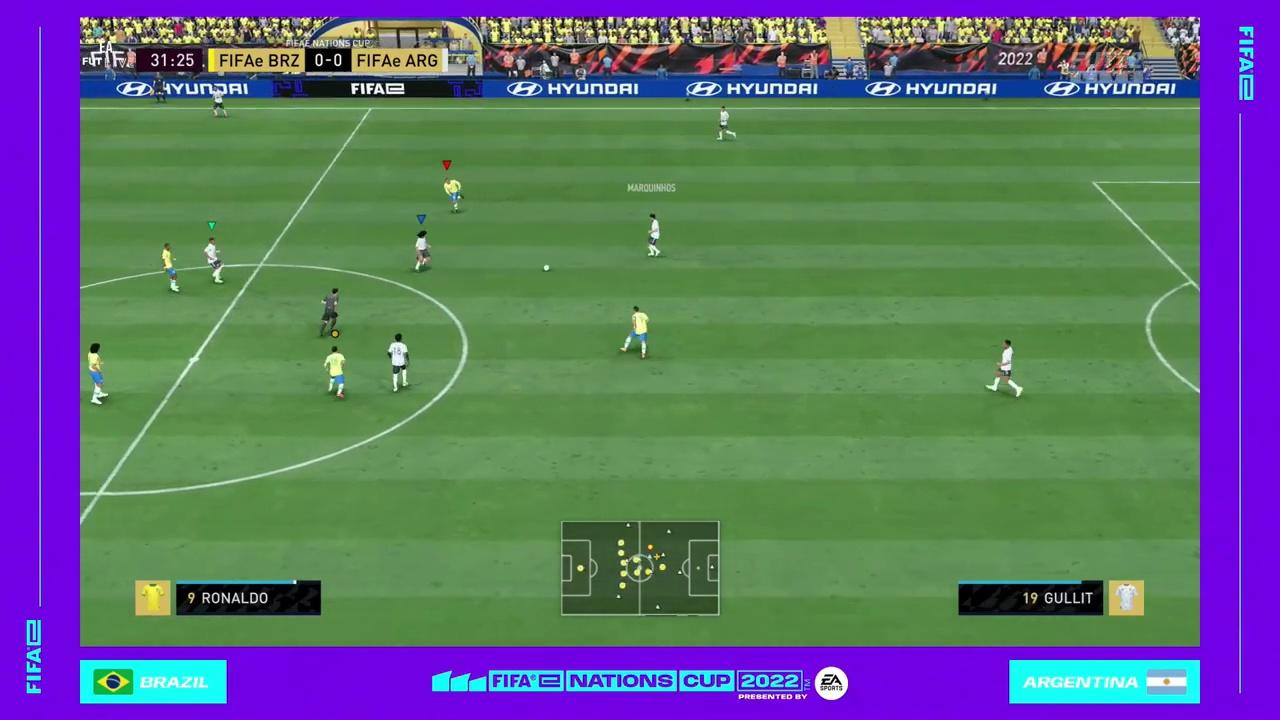scoreboard: (210, 46, 448, 74)
timestamp: (137, 48, 206, 71)
